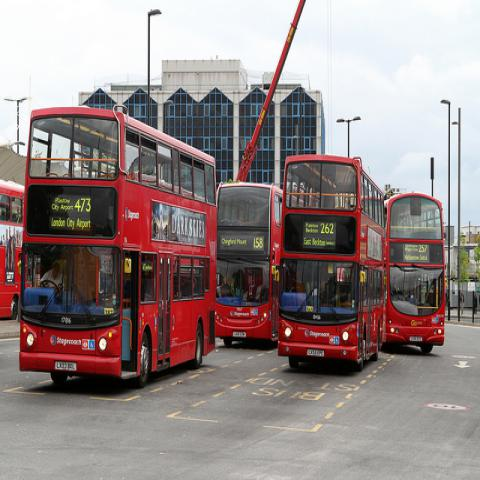bus: (19, 103, 217, 386), (274, 151, 384, 371), (217, 185, 281, 345), (381, 194, 445, 354), (0, 180, 26, 319)
